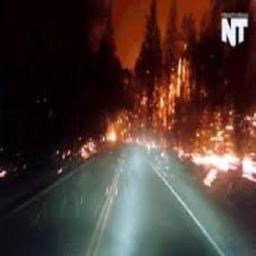Large fire: (73, 56, 256, 191)
